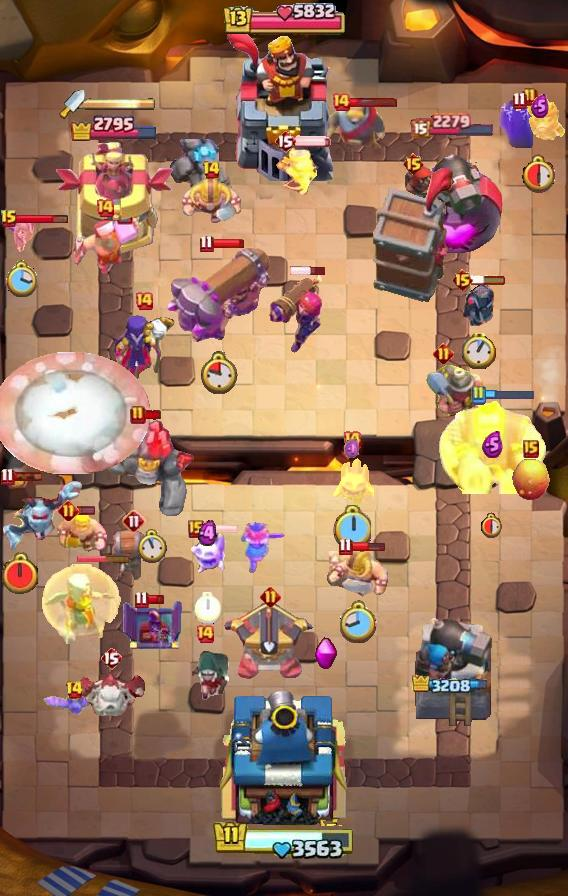archer: (274, 144, 320, 196)
bandit: (179, 649, 231, 703)
bar: (484, 389, 536, 401), (16, 214, 69, 225), (348, 97, 398, 108), (77, 554, 131, 563), (294, 135, 332, 147), (202, 523, 239, 535), (290, 265, 327, 277), (471, 274, 507, 286), (350, 541, 386, 552), (8, 471, 43, 482), (211, 238, 245, 249), (144, 409, 163, 421), (146, 594, 165, 605), (77, 505, 96, 516)
bar-level: (122, 509, 146, 533), (451, 268, 474, 292), (402, 152, 425, 176), (100, 646, 122, 670), (274, 129, 296, 153), (260, 586, 281, 607), (58, 500, 79, 521), (433, 343, 454, 364), (195, 624, 215, 644), (342, 430, 362, 450), (134, 291, 154, 311), (95, 198, 115, 218), (331, 92, 351, 112), (65, 680, 84, 700), (202, 160, 221, 180), (0, 209, 18, 229), (130, 405, 146, 425), (470, 385, 486, 405), (522, 87, 538, 107), (188, 520, 204, 538), (523, 440, 539, 458), (134, 590, 149, 609), (338, 537, 353, 556), (0, 467, 15, 486), (199, 234, 214, 253), (512, 91, 527, 110)
barbarian: (54, 509, 110, 553)
bat-evolution: (39, 693, 109, 719)
cannoneer-tower: (403, 138, 503, 256), (410, 611, 496, 731)
clock: (0, 552, 40, 596), (340, 600, 378, 645), (333, 505, 371, 549), (201, 351, 238, 394), (522, 153, 559, 193), (462, 332, 496, 369), (5, 260, 37, 299), (137, 529, 167, 564), (194, 592, 221, 624), (481, 512, 504, 538)
dagger-duchess-tower: (55, 142, 174, 256)
dagger-duchess-tower-bar: (85, 97, 155, 111)
electro-spirit: (499, 98, 539, 148)
elite-barbarian: (326, 551, 392, 601), (180, 177, 242, 225)
elixir: (482, 431, 503, 458), (198, 520, 217, 547), (531, 94, 549, 118), (344, 438, 361, 460)
evolution-symbol: (313, 637, 338, 671)
firecracker-evolution: (266, 270, 326, 356)
golemite: (170, 138, 236, 200)
ice-spirit-evolution: (330, 454, 374, 508), (187, 525, 227, 575)
king-tower: (214, 684, 354, 826), (223, 31, 345, 181)
king-tower-bar: (212, 820, 356, 862), (221, 0, 347, 40)
knight: (319, 98, 386, 151)
little-prince: (514, 94, 566, 149)
lumberjack: (70, 213, 140, 275)
mega-minion: (0, 478, 86, 556)
miner: (424, 357, 486, 429)
mini-pekka: (461, 276, 497, 330)
phoenix-egg: (511, 458, 551, 502)
skeleton-evolution: (8, 217, 34, 255)
tower-bar: (69, 113, 159, 141), (410, 112, 496, 138), (412, 675, 494, 697)
valkyrie: (239, 521, 287, 575)
wall-breaker: (109, 527, 159, 583)
witch: (112, 313, 176, 379)
